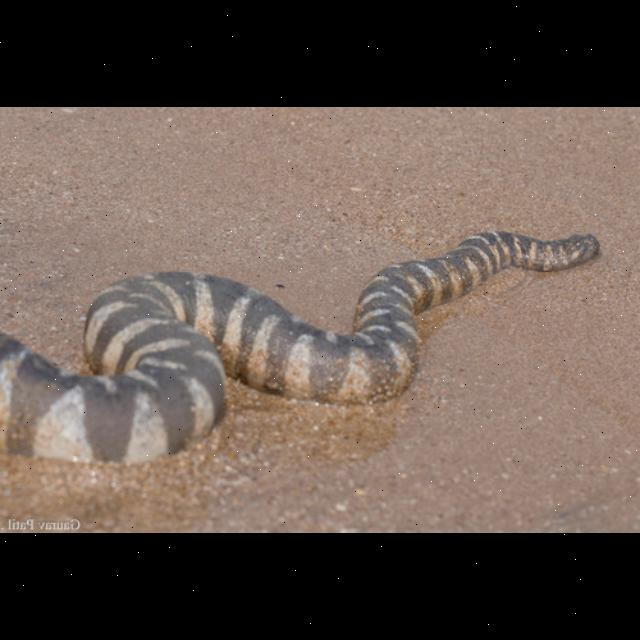snake: (0, 210, 602, 470)
